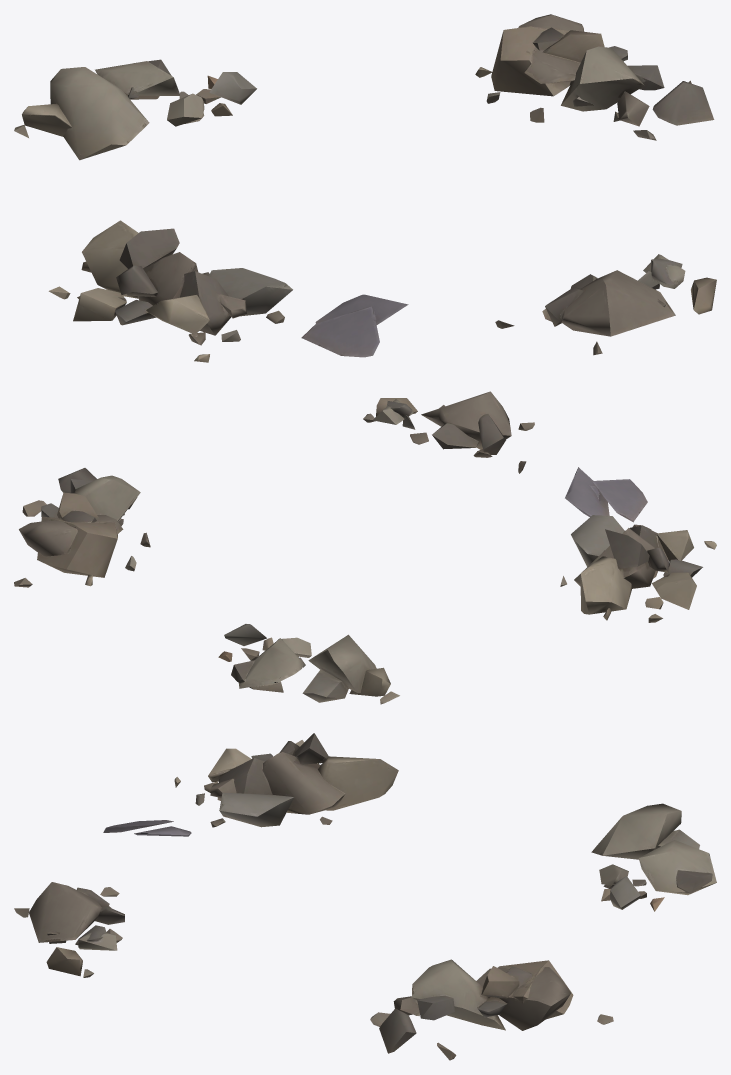
File: rough-cave-3.hq.glb
The picture shows the model from 3 angles, top to bottom: view 1: azimuth 30°, elevation 25°; view 2: azimuth 150°, elevation 25°; view 3: azimuth 270°, elevation 25°; orthographic projection. The views are drawn at different scales.
Parts seen in each view (by area): view 1: rough-cave-3; view 2: rough-cave-3; view 3: rough-cave-3.
Boxes of the visible parts, x1=… form: rough-cave-3: x1=14, y1=14, x2=716, y2=362; rough-cave-3: x1=14, y1=391, x2=716, y2=704; rough-cave-3: x1=14, y1=733, x2=716, y2=1060.
Size of the model in its own units: 1.81 by 0.2082 by 1.81.
Materials: 1 (1 with a texture image).
